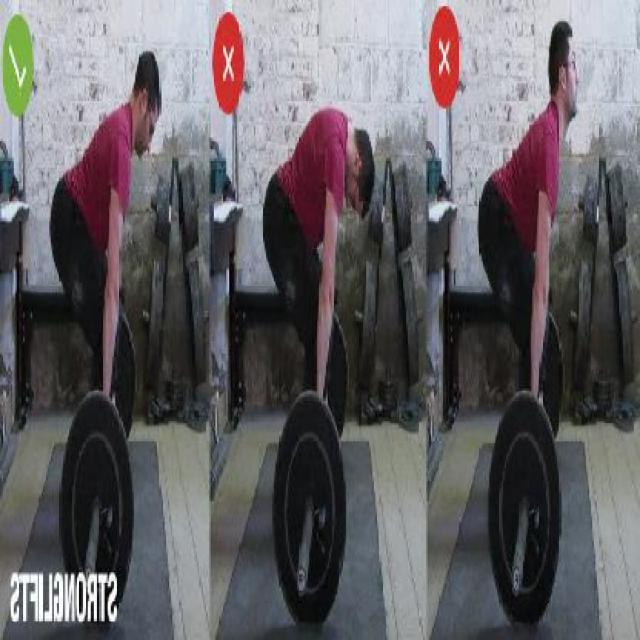Barbell: (293, 558, 309, 600), (510, 556, 524, 601)
